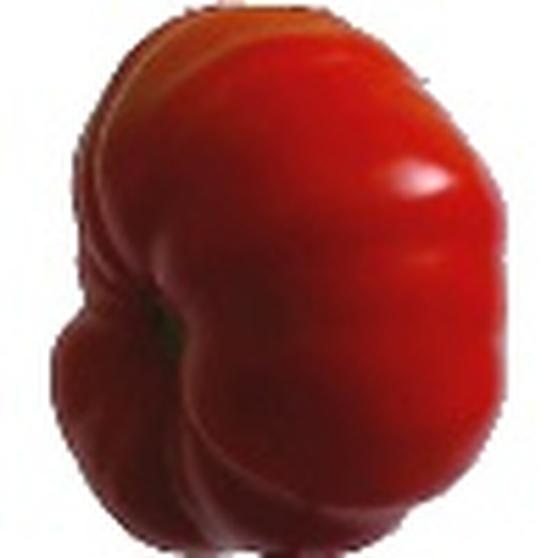tomato: (50, 2, 511, 558)
